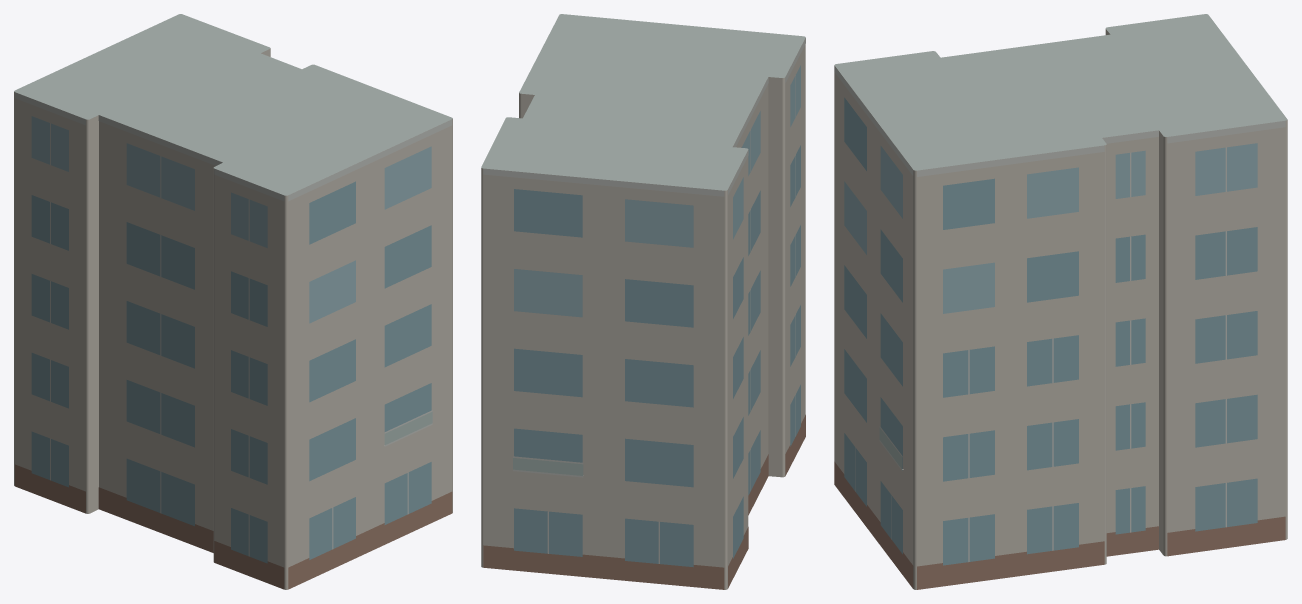
The model's file is survey-upis-32612271.glb.
3 views of the same model, side by side, from view 1: azimuth 30°, elevation 25°; view 2: azimuth 150°, elevation 25°; view 3: azimuth 270°, elevation 25° (orthographic). The views are drawn at different scales.
Visible parts, largest first — view 1: survey-upis-32612271.tmp; view 2: survey-upis-32612271.tmp; view 3: survey-upis-32612271.tmp.
Part boxes in pixels (bbox=[...]): survey-upis-32612271.tmp: bbox=[14, 14, 452, 589]; survey-upis-32612271.tmp: bbox=[481, 14, 805, 589]; survey-upis-32612271.tmp: bbox=[834, 14, 1287, 589].
Bounding box in the file's own units: 12.66 × 15.8 × 15.47.
